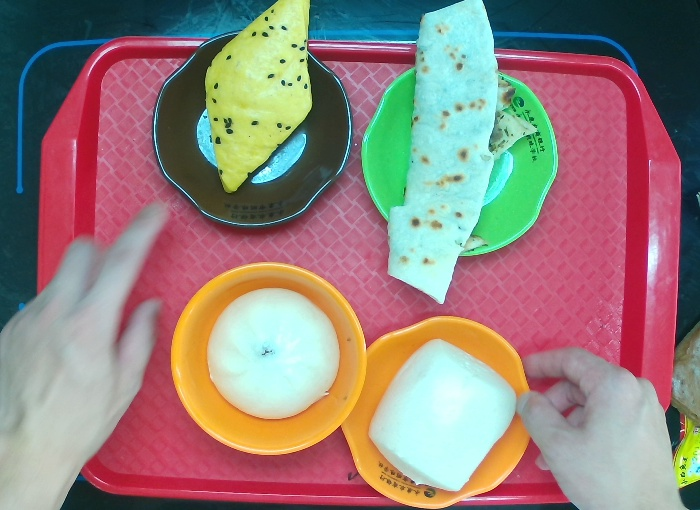YKMZ-Ju_Se_Ao_Bian_Wan: (337, 315, 534, 510)
YKMZ-Ju_Se_Yuan_Wan: (168, 256, 369, 455)
YKMZ-Ka_Fei_Ao_Bian_Wan: (149, 28, 354, 231)
YKMZ-Lv_Se_Ao_Bian_Wan: (359, 56, 558, 256)
